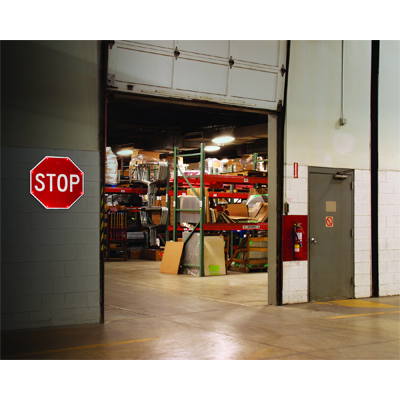stopsign: (28, 154, 86, 210)
